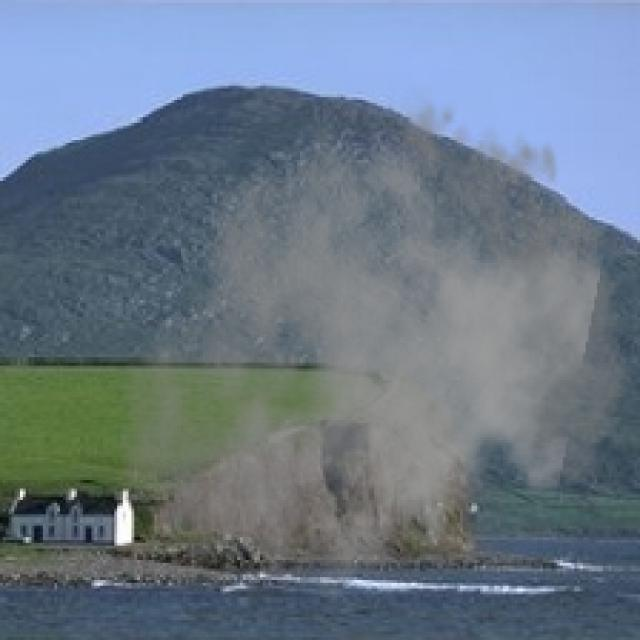smoke: (114, 80, 637, 631)
